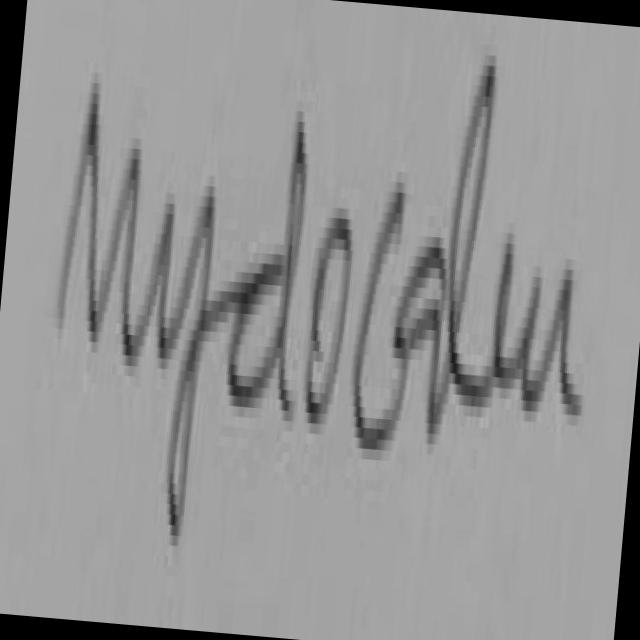M: (57, 83, 146, 361)
a: (396, 237, 447, 429)
c: (354, 182, 407, 448)
d: (227, 116, 300, 434)
l: (428, 66, 495, 440)
m: (495, 244, 581, 429)
o: (307, 208, 353, 418)
y: (158, 186, 213, 535)
